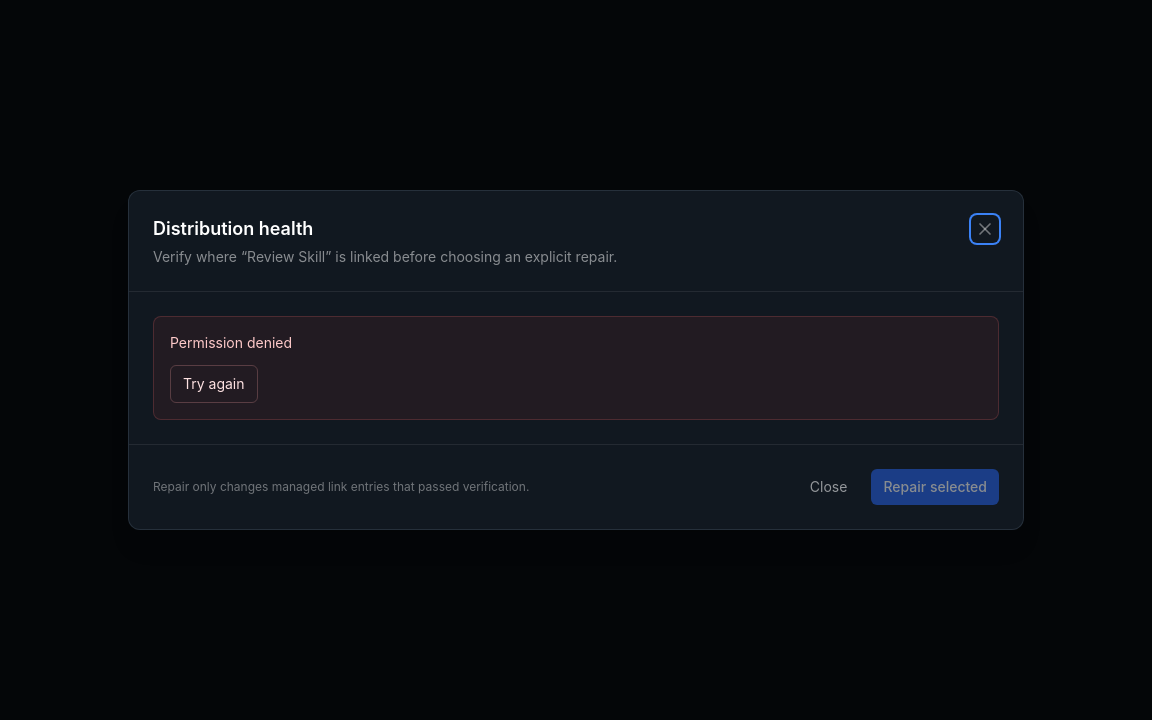
Scenario: SkillHealthDialog › shows a retryable error when verification fails
Expected: the message shows "Permission denied", [170,334,292,351]
Click the button "Try again" at (214, 384), box [170,365,258,403]
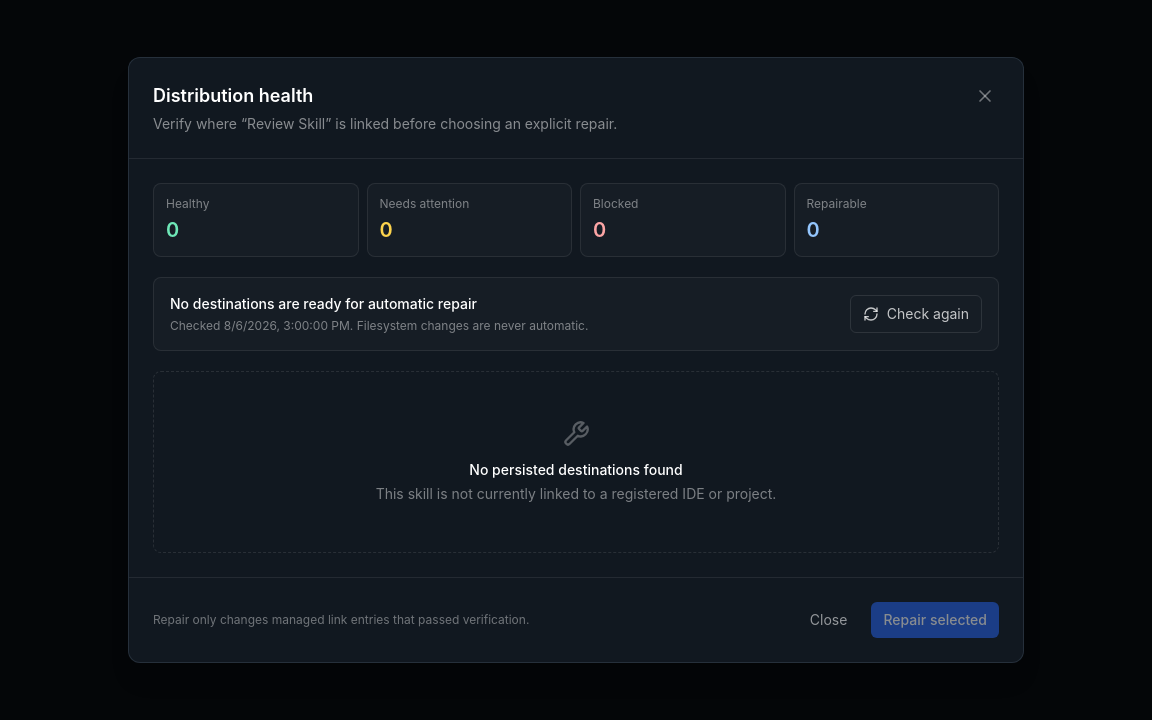
Expected: the text "No persisted destinations found" is shown, [469,461,683,478]
